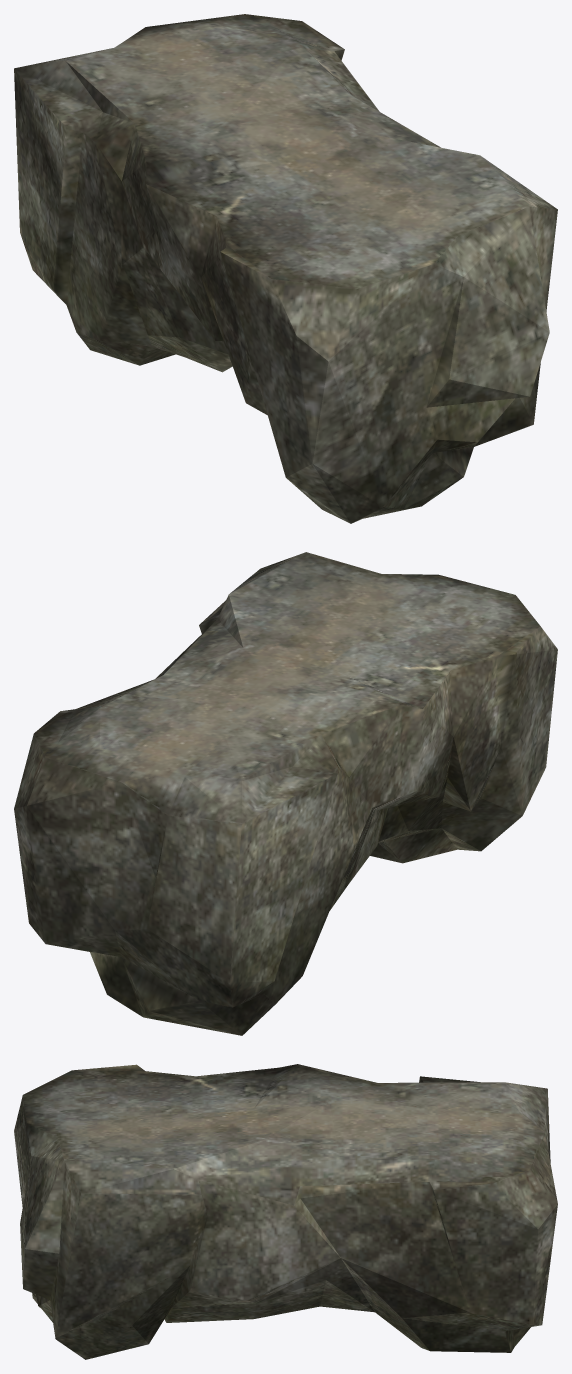
Rendered from bg_anh_mirrorv_bridge02_sm_old.FBX.
3 renders of one model, top to bottom at view 1: azimuth 30°, elevation 25°; view 2: azimuth 150°, elevation 25°; view 3: azimuth 270°, elevation 25°, orthographic. The views are drawn at different scales.
Parts seen in each view (by area): view 1: bg_anh_mirrorv_bridge02_sm_old; view 2: bg_anh_mirrorv_bridge02_sm_old; view 3: bg_anh_mirrorv_bridge02_sm_old.
Part boxes in pixels (x1,y1,x2,y2): bg_anh_mirrorv_bridge02_sm_old: [14, 14, 557, 523]; bg_anh_mirrorv_bridge02_sm_old: [14, 552, 557, 1035]; bg_anh_mirrorv_bridge02_sm_old: [14, 1064, 557, 1359].
Size of the model in its own units: 386 by 348 by 722.
